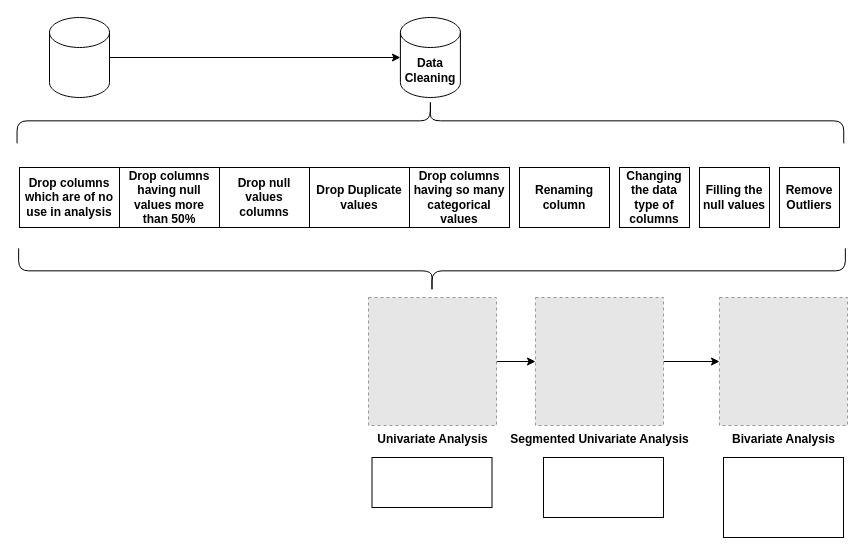
The diagram is 866 pixels wide and 555 high, and some of its shapes have lost their labels. Grey dashed boxes stand in for pictures. The shapes that lost their labels are listed below. From the top down, each one's box as (x1, y1, x2, y2) in pixels, then its label:
(48, 16, 110, 98): Raw Data
(371, 456, 492, 508): Count plot Histogram Box plot
(542, 456, 664, 518): Categorical plots with a derived metrics (default rate)
(722, 456, 844, 538): Scatter plot Multiple Categorical graph with numerical columns Pair plot
